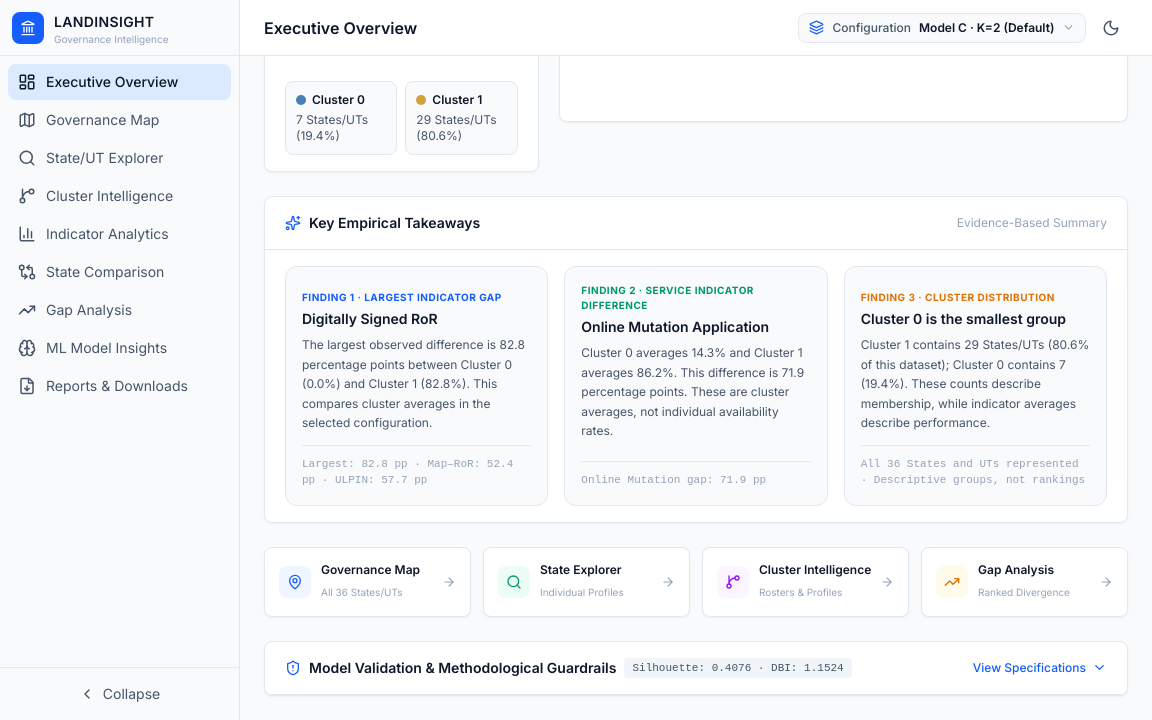
Dashboard Functional Testing — All 9 Pages & Interactive Elements › Page 1: Executive Overview (/) › renders the baseline overview without a KPI card row and keeps core analysis prominent
The width and height of the screenshot is (1152, 720).
(page scrolled)
expect the heading "Executive Overview" is shown: met, box left=264, top=16, right=417, bottom=40
expect the dropdown named "cluster configuration" shows "Model C · K=2 (Default)": met, box left=919, top=20, right=1075, bottom=36
What coordinates should you click on to do the following:
click the button named "View Specifications"
I would click on:
 (696, 668)
Its box is left=265, top=642, right=1127, bottom=695.
(page scrolled)
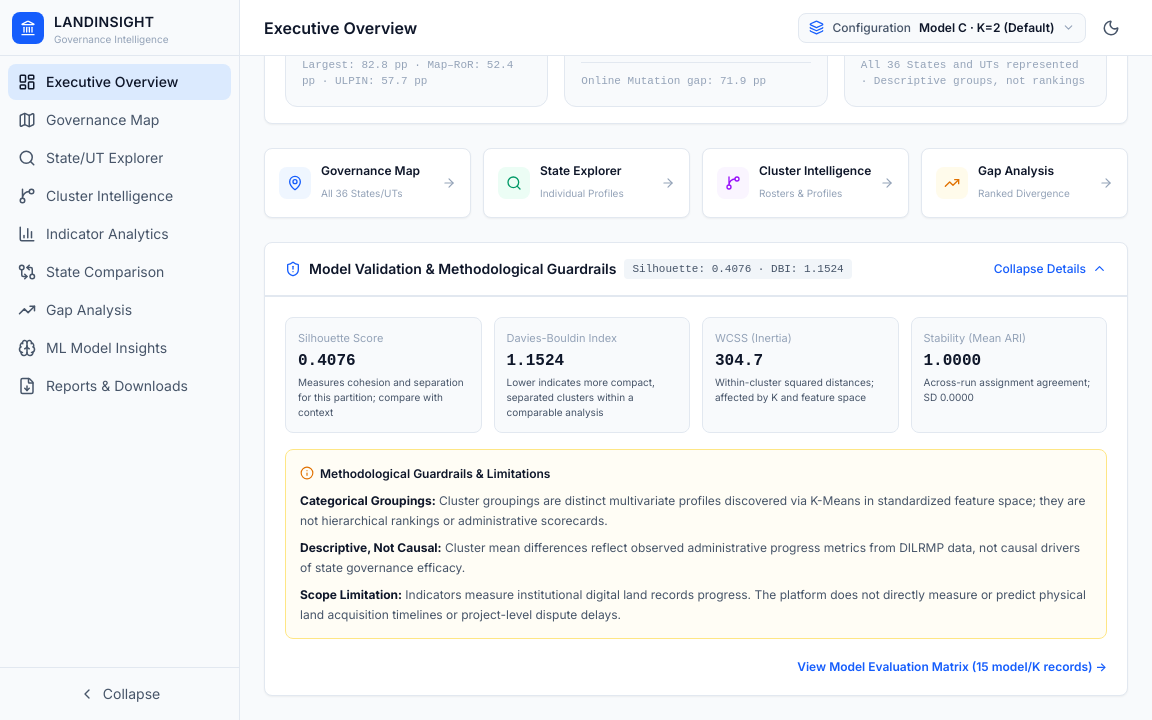
expect the text "Silhouette Score" is shown: met, box left=298, top=331, right=383, bottom=345
expect the text "0.4076" is shown: met, box left=298, top=352, right=356, bottom=370
expect the text "Davies-Bouldin Index" is shown: met, box left=506, top=331, right=617, bottom=345
